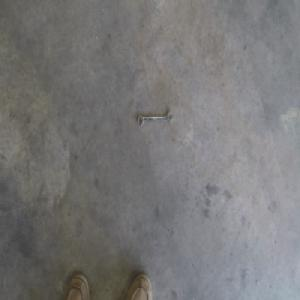Wrench: (137, 111, 173, 127)
